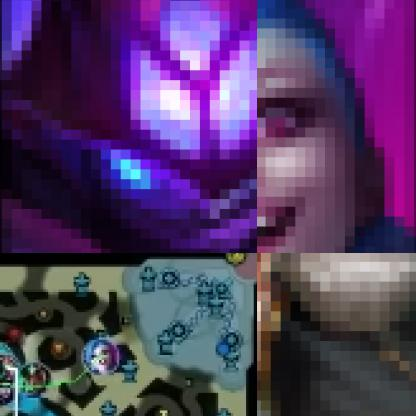Camille: (257, 253, 415, 415)
Hecarim: (0, 340, 19, 376)
Jinx: (257, 0, 415, 252), (82, 336, 121, 375)
Karma: (15, 363, 53, 396)
Leblanc: (0, 373, 19, 407)
Malzahar: (0, 0, 256, 252)
